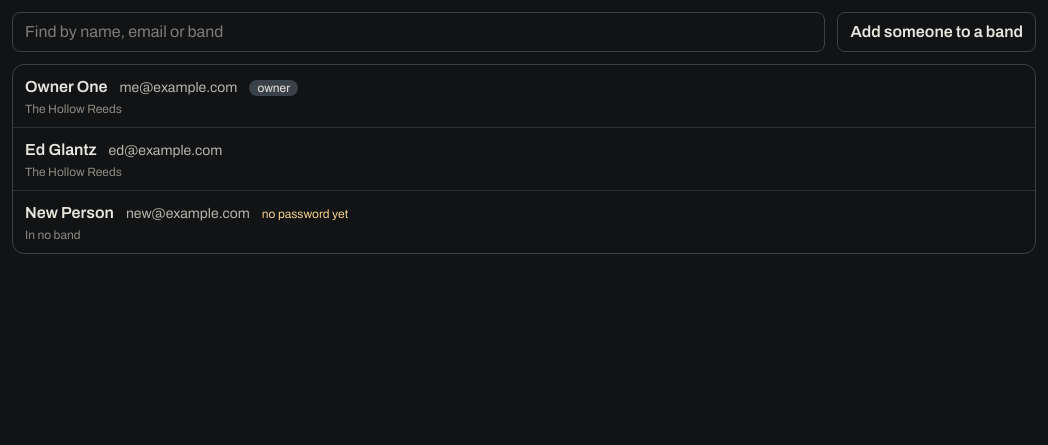
Test case: OwnerPeople › adds someone to a band ({"existing":true})
The image size is (1048, 445).
Click the button "Add someone to a band".
click(937, 32)  # box [837, 12, 1036, 52]
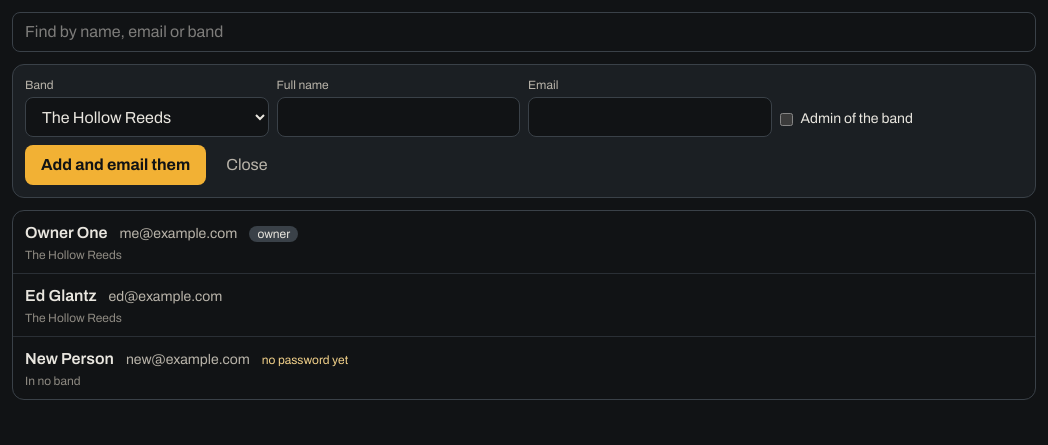
Select "Riverside" in the dropdown labelled "Band" at x=147, y=117, box [25, 97, 268, 137]
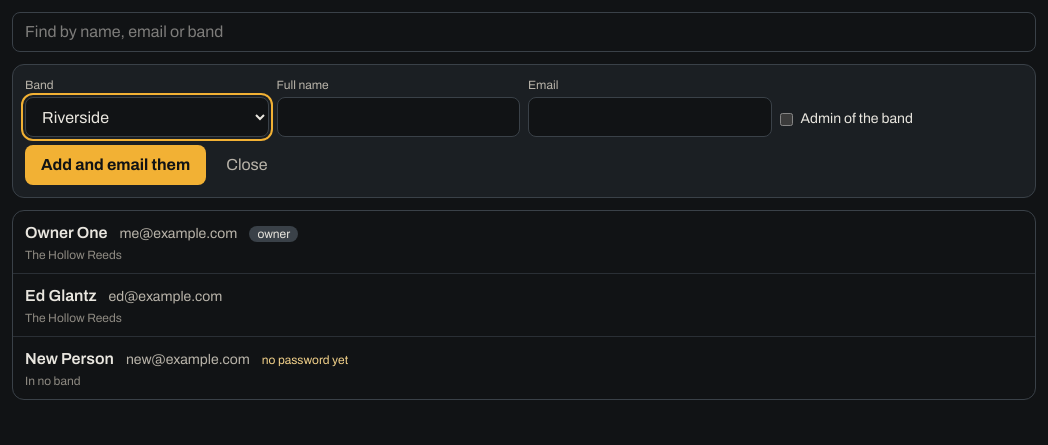
Type "New" into the field labelled "Full name".
click(398, 117); type("New")  # box [276, 97, 520, 137]
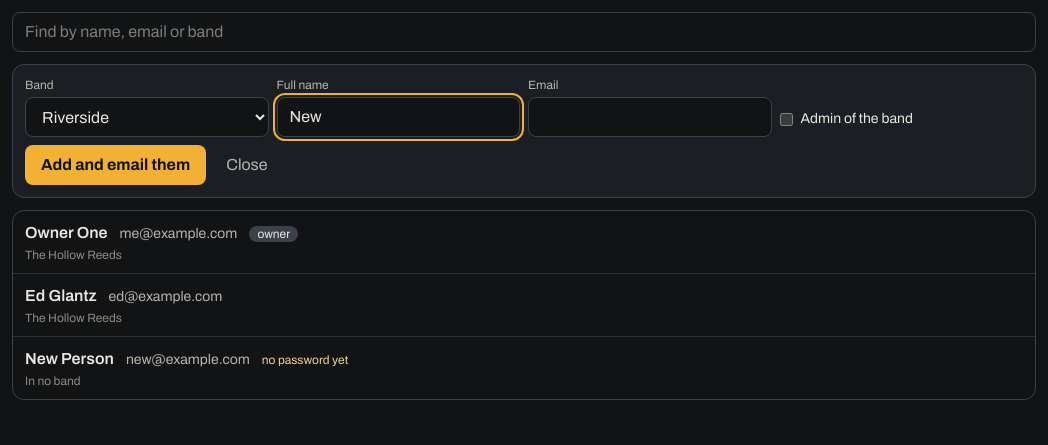
Type "new@x.com" into the field labelled "Email".
click(650, 117); type("new@x.com")  # box [528, 97, 772, 137]
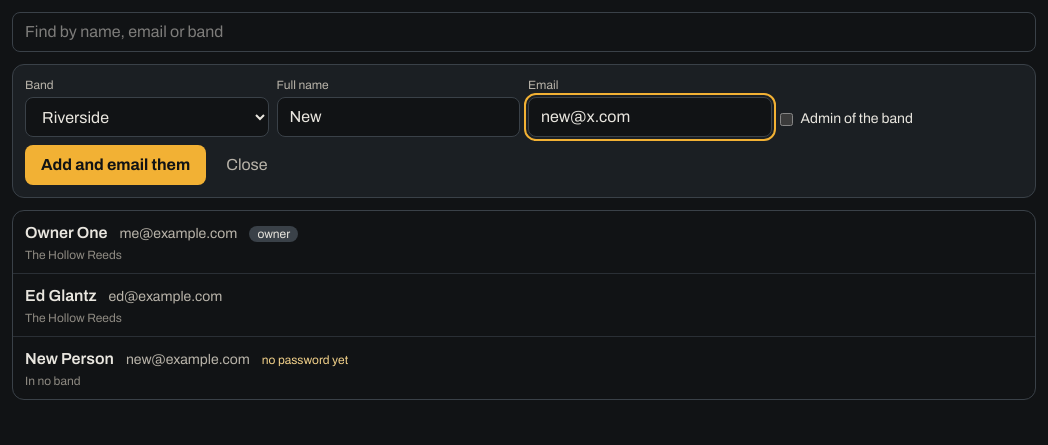
Click the checkbox labelled "Admin of the band".
click(786, 119)  # box [780, 112, 792, 126]
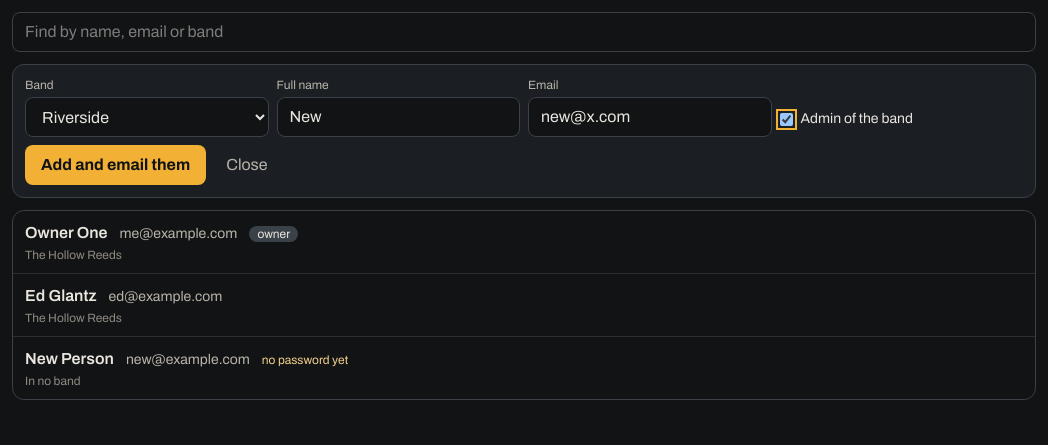
Click the button "Add and email them".
click(116, 165)  # box [25, 145, 206, 185]
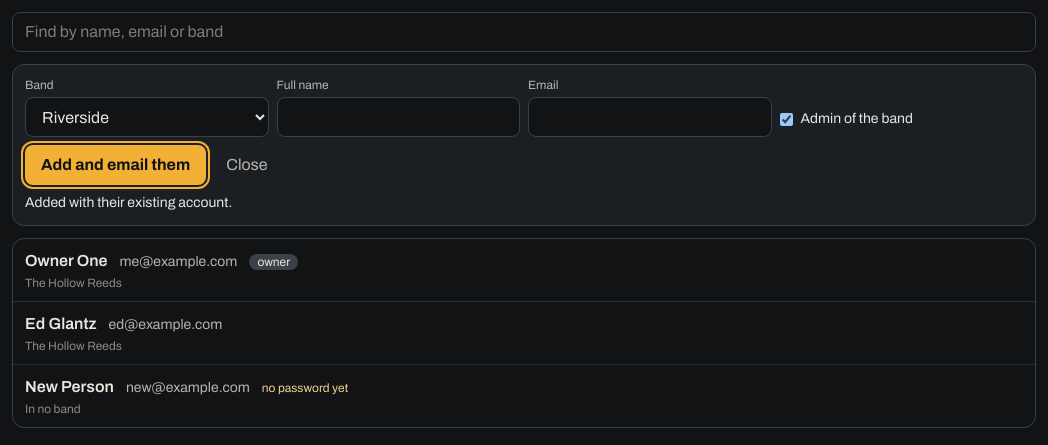
Check: the message reads "Added with their existing account.", box [25, 195, 232, 210]
